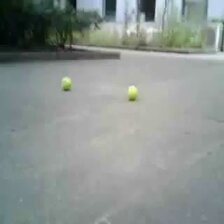tennis: (61, 77, 73, 90), (126, 86, 138, 99)
